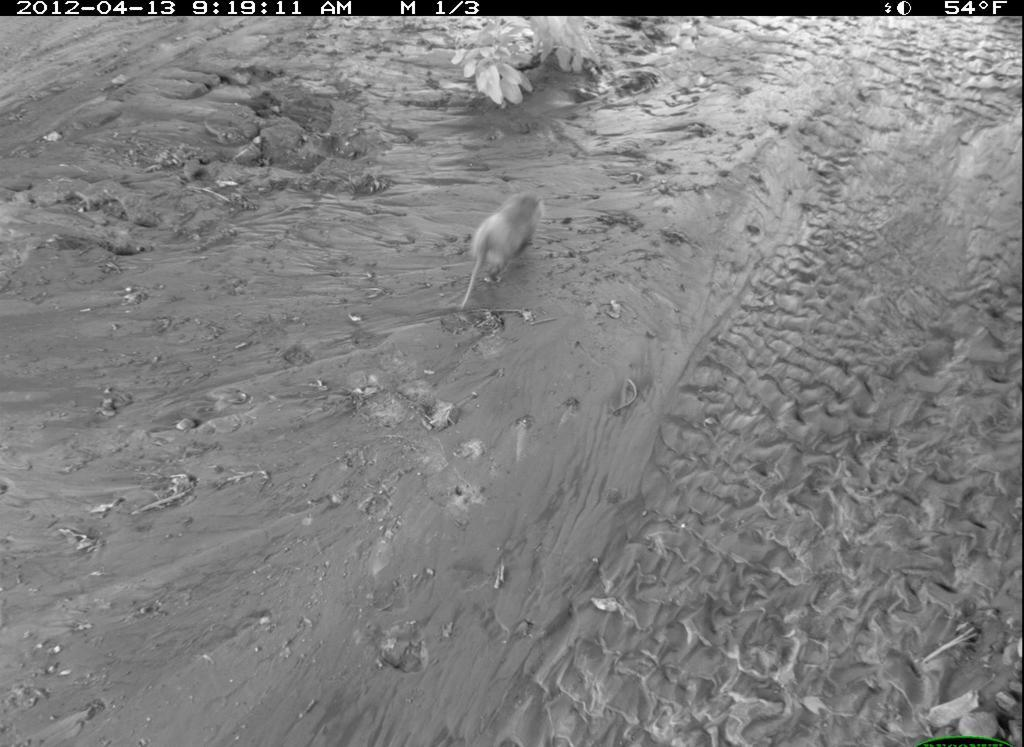opossum: (451, 187, 553, 318)
